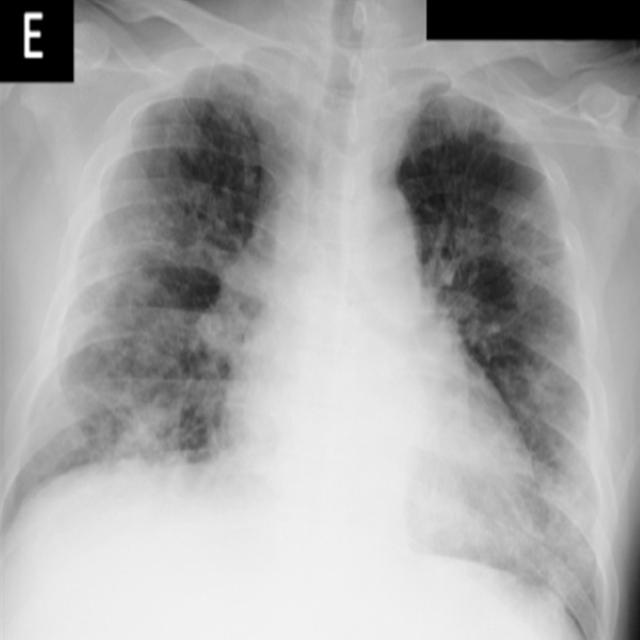diaphragm: (0, 458, 611, 640)
heart: (211, 178, 536, 559)
left_lobe: (374, 70, 609, 640)
right_lobe: (5, 48, 331, 548)
